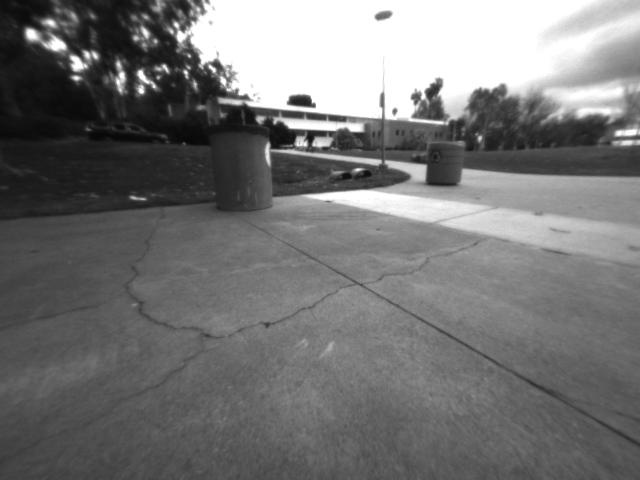trashcan: (193, 110, 283, 215), (417, 131, 470, 195)
